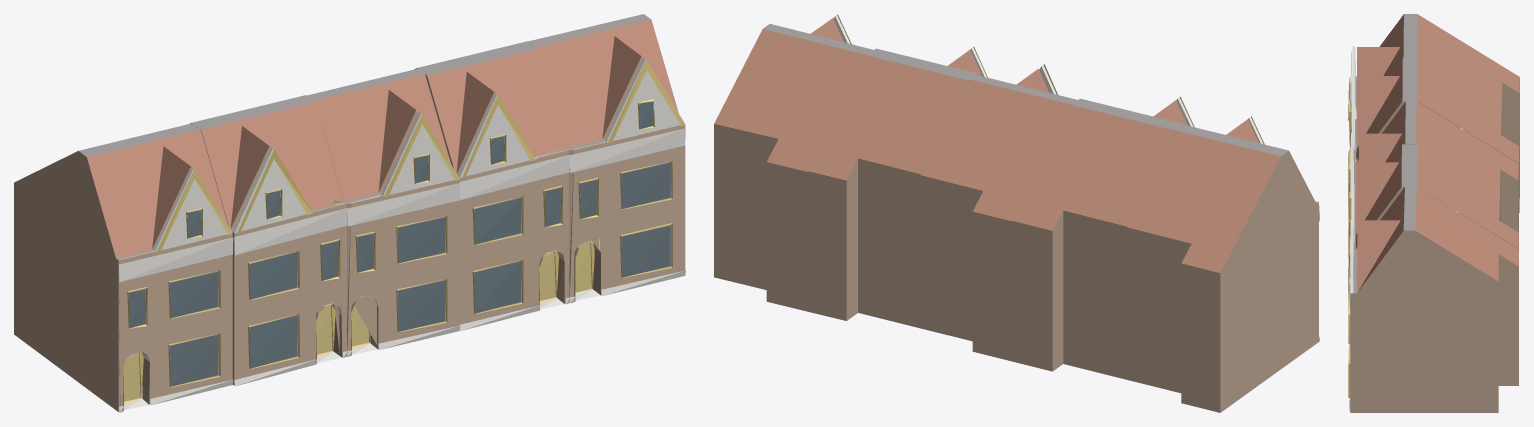
File: chunk-face-zaanhof-125-134.lod2.glb
3 renders of one model, left to right at view 1: azimuth 30°, elevation 25°; view 2: azimuth 150°, elevation 25°; view 3: azimuth 270°, elevation 25°, orthographic. The views are drawn at different scales.
Parts seen in each view (by area): view 1: lod2; view 2: lod2; view 3: lod2.
Boxes of the visible parts, x1=… form: lod2: x1=14, y1=14, x2=685, y2=412; lod2: x1=714, y1=14, x2=1319, y2=412; lod2: x1=1348, y1=14, x2=1519, y2=412.
Size of the model in its own units: 29.85 by 11.7 by 9.99.
